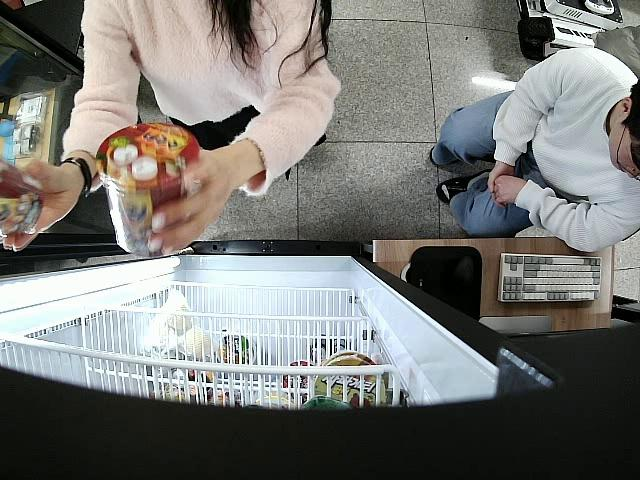00_hand: (148, 143, 230, 255), (0, 153, 81, 251)
06_nuguri_S: (96, 123, 200, 256), (0, 153, 44, 241)
